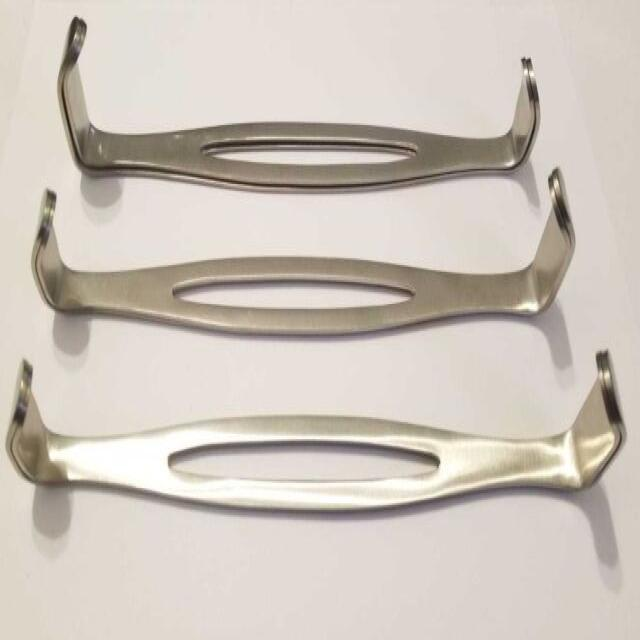Army Navy Retractor: (6, 352, 626, 527), (54, 0, 541, 206), (28, 168, 584, 344)
